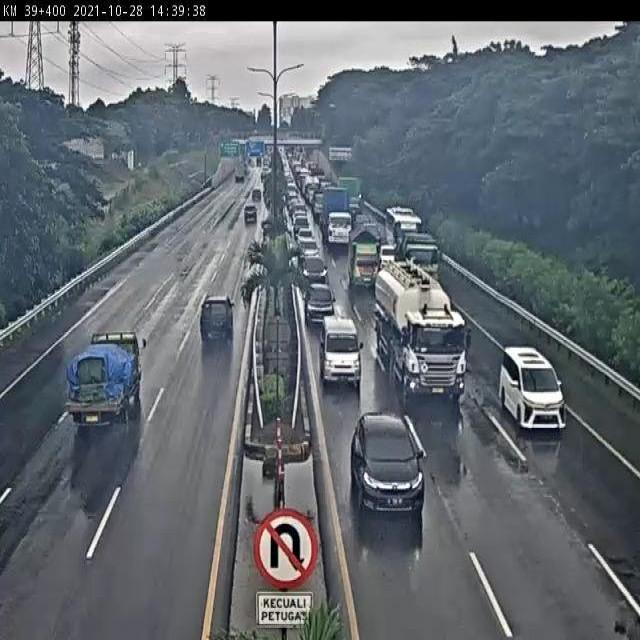big truck: (377, 260, 460, 375)
car: (365, 414, 427, 509), (184, 302, 253, 369), (511, 343, 563, 417), (318, 297, 352, 353), (304, 274, 330, 310), (301, 247, 325, 270), (240, 203, 259, 232), (245, 183, 265, 209), (299, 217, 315, 244)
small truck: (63, 314, 150, 442), (343, 223, 371, 272)
